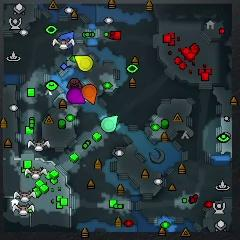p1: (59, 31, 74, 49)
p2: (101, 115, 119, 133)
p3: (67, 88, 86, 105)
p4: (74, 55, 93, 72)
p5: (82, 85, 97, 105)
